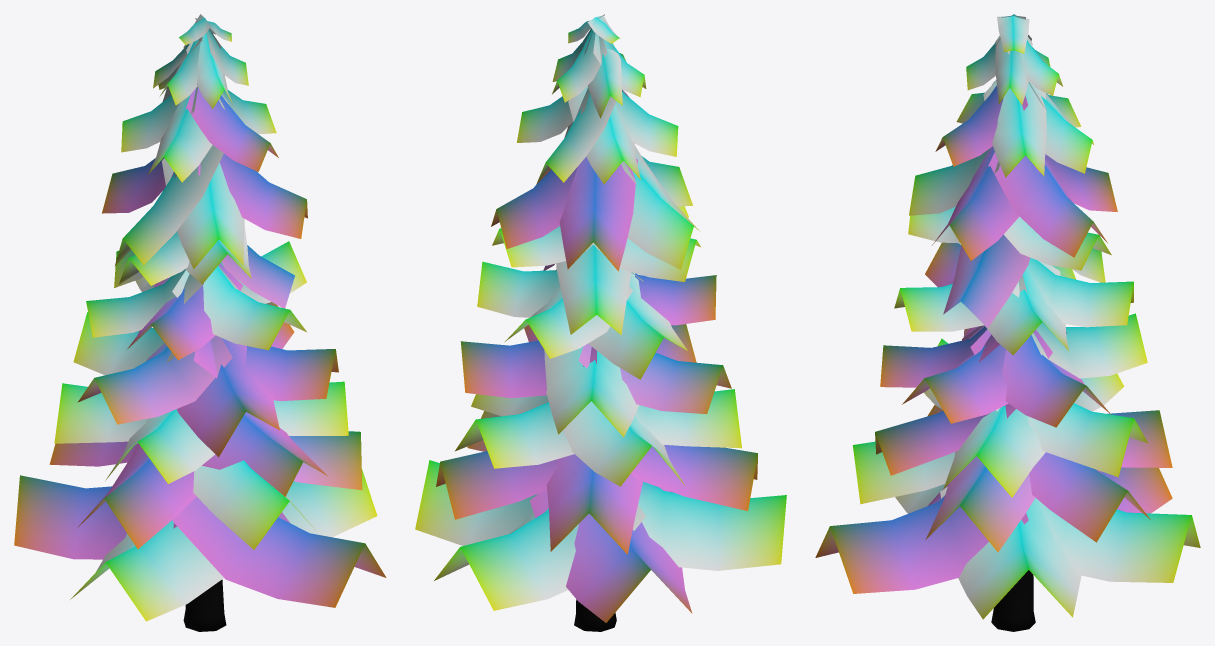
File: build_city_shu04_mod.FBX
The picture shows the model from 3 angles, left to right: view 1: azimuth 30°, elevation 25°; view 2: azimuth 150°, elevation 25°; view 3: azimuth 270°, elevation 25°; orthographic projection.
Visible parts, largest first — view 1: SM_Tree_Pine_01; view 2: SM_Tree_Pine_01; view 3: SM_Tree_Pine_01.
Part boxes in pixels (x1,y1,x2,y2): SM_Tree_Pine_01: (14, 14, 386, 631); SM_Tree_Pine_01: (415, 14, 786, 631); SM_Tree_Pine_01: (815, 14, 1200, 631).
Bounding box in the file's own units: 314 × 568 × 327.
